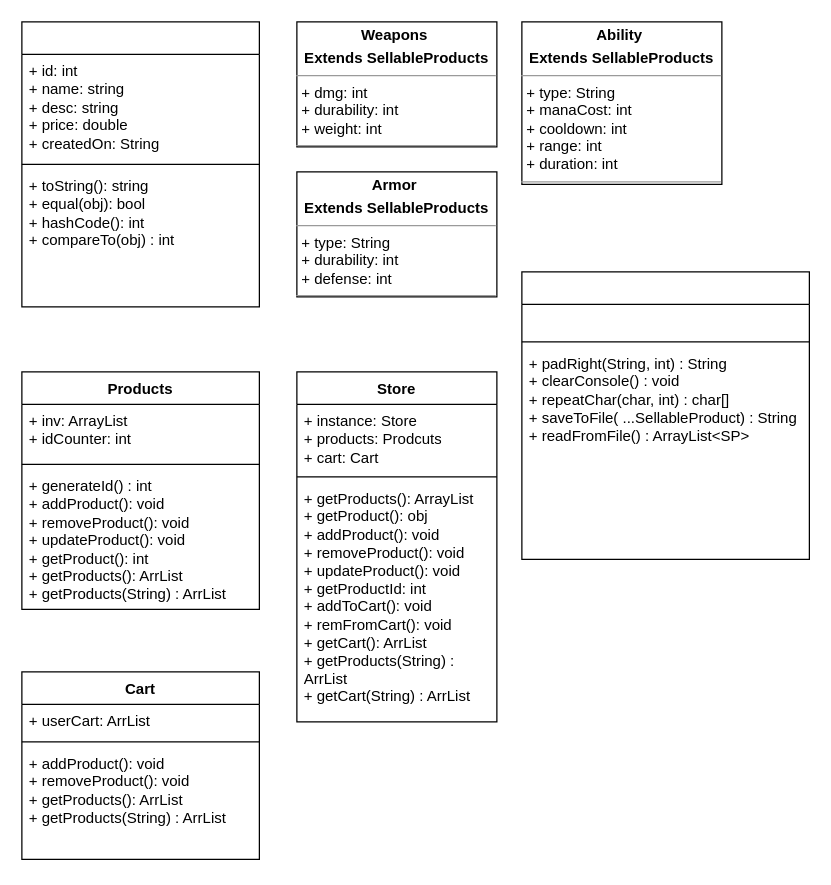
This 831x885 diagram has some shape labels left out. Here are the shapes that lost their labels. From the top down, the box of each, then its label:
(21, 21, 259, 307): Sellable Products <Abstract>
(521, 271, 809, 559): Utils
